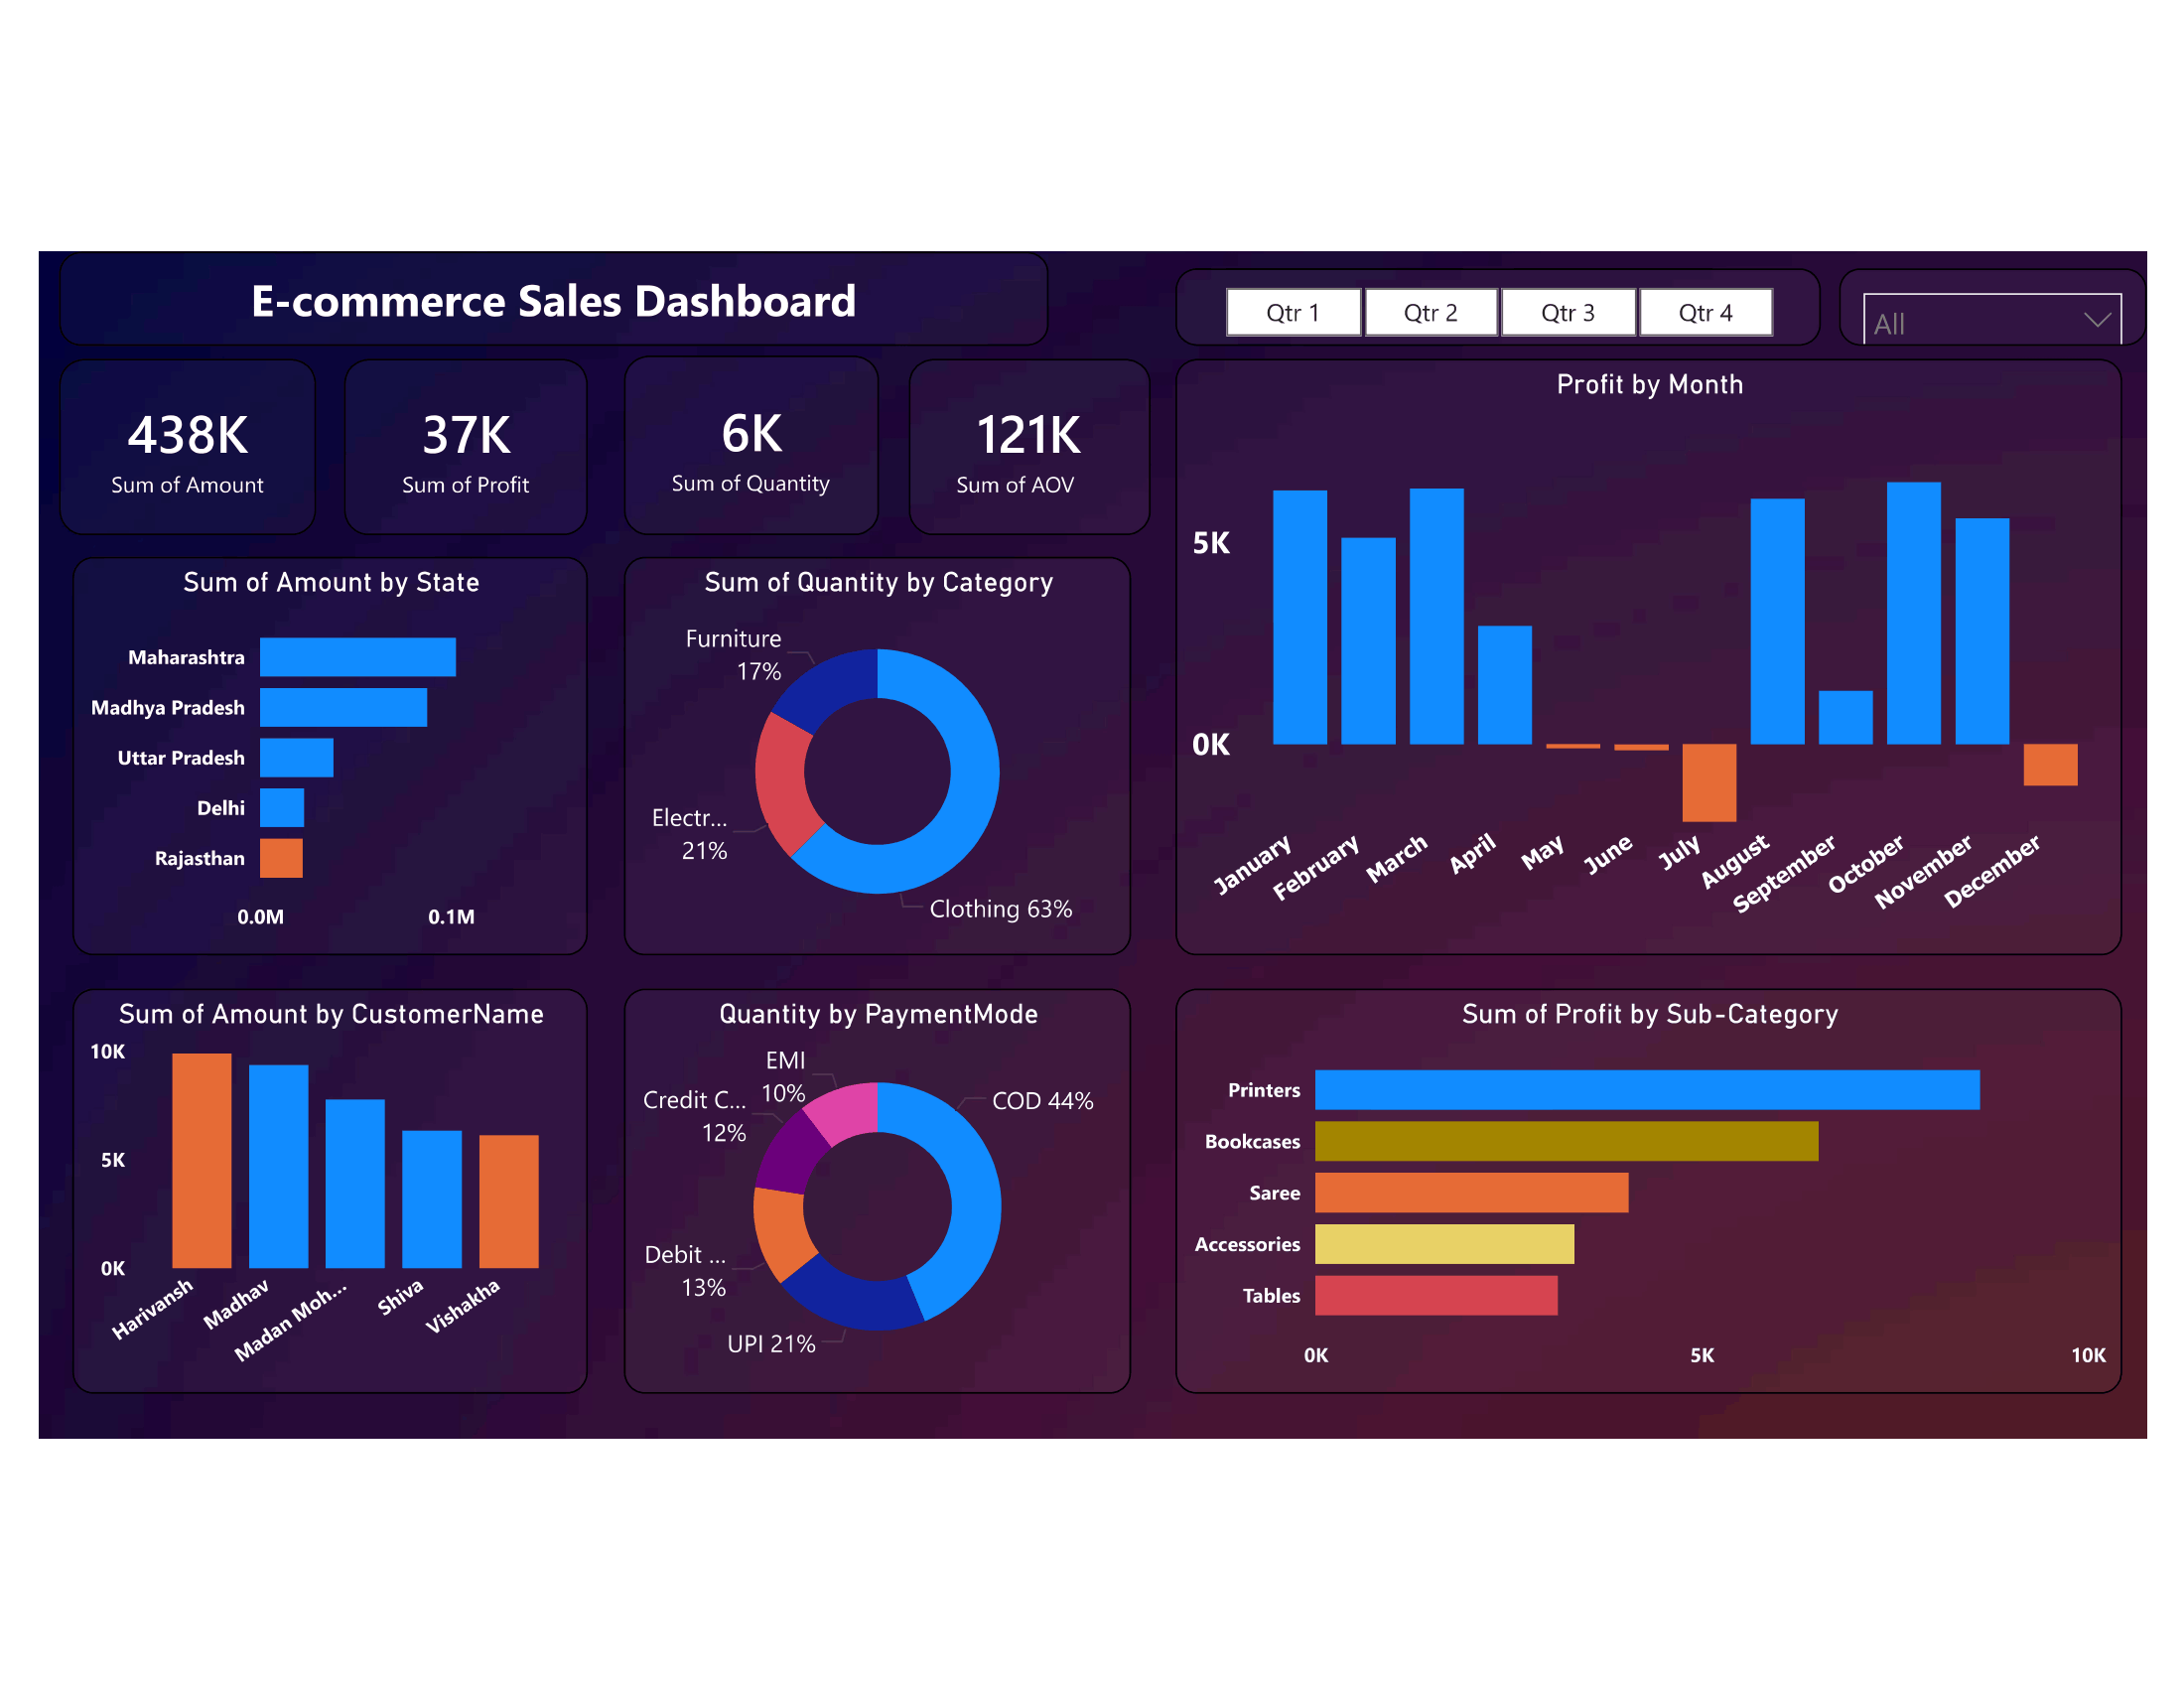

This screenshot's page, from the dashboard's own definition file:
{"tool":"powerbi","page":{"name":"Page 1","canvas":[1280,720],"ordinal":0},"visuals":[{"type":"textbox","box":[11.7,0,601.7,56.7],"z":0},{"type":"clusteredColumnChart","title":"Profit by Month","fields":{"Y":["Sum(Details.Profit)"],"Category":["Orders.Order Date.Variation.Date Hierarchy.Month"]},"box":[690,65,575,361.7],"z":1000},{"type":"barChart","fields":{"Y":["Sum(Details.Profit)"],"Category":["Details.Sub-Category"]},"box":[690,446.7,575,246.7],"z":2000},{"type":"donutChart","title":"Quantity by PaymentMode","fields":{"Y":["Sum(Details.Quantity)"],"Category":["Details.PaymentMode"]},"box":[355,446.7,308.3,246.7],"z":3000},{"type":"donutChart","fields":{"Category":["Details.Category"],"Y":["Sum(Details.Quantity)"]},"box":[355,185,308.3,241.7],"z":4000},{"type":"cardVisual","fields":{"Data":["Sum(Details.Profit)"]},"box":[185,65,148.3,106.7],"z":4001},{"type":"cardVisual","fields":{"Data":["Sum(Details.Amount)"]},"box":[11.7,65,156.7,106.7],"z":4002},{"type":"cardVisual","fields":{"Data":["Sum(Details.Quantity)"]},"box":[355,63.3,155,108.3],"z":4003},{"type":"cardVisual","fields":{"Data":["Sum(Details.AOV)"]},"box":[528.3,65,146.7,106.7],"z":4004},{"type":"barChart","fields":{"Y":["Sum(Details.Amount)"],"Category":["Orders.State"]},"box":[20,185,313.3,241.7],"z":4005},{"type":"columnChart","fields":{"Y":["Sum(Details.Amount)"],"Category":["Orders.CustomerName"]},"box":[20,446.7,313.3,246.7],"z":4006},{"type":"slicer","fields":{"Values":["Orders.Order Date.Variation.Date Hierarchy.Quarter"]},"box":[690,10,391.7,46.7],"z":4007},{"type":"slicer","fields":{"Values":["Orders.State"]},"box":[1093.3,10,186.7,46.7],"z":4008}]}

Visuals, with their boxes on the page's 1280x720 design canvas (x1, y1, x2, y2). These are canvas units, not pixel positions in the 2184x1688 screenshot, which may show the page scaled, cropped or inside an application window:
textbox: (12,0,613,57)
"Profit by Month" clusteredColumnChart: (690,65,1265,427)
barChart - Sum(Details.Profit) x Details.Sub-Category: (690,447,1265,693)
"Quantity by PaymentMode" donutChart: (355,447,663,693)
donutChart - Details.Category x Sum(Details.Quantity): (355,185,663,427)
cardVisual - Sum(Details.Profit): (185,65,333,172)
cardVisual - Sum(Details.Amount): (12,65,168,172)
cardVisual - Sum(Details.Quantity): (355,63,510,172)
cardVisual - Sum(Details.AOV): (528,65,675,172)
barChart - Sum(Details.Amount) x Orders.State: (20,185,333,427)
columnChart - Sum(Details.Amount) x Orders.CustomerName: (20,447,333,693)
slicer - Orders.Order Date.Variation.Date Hierarchy.Quarter: (690,10,1082,57)
slicer - Orders.State: (1093,10,1280,57)
